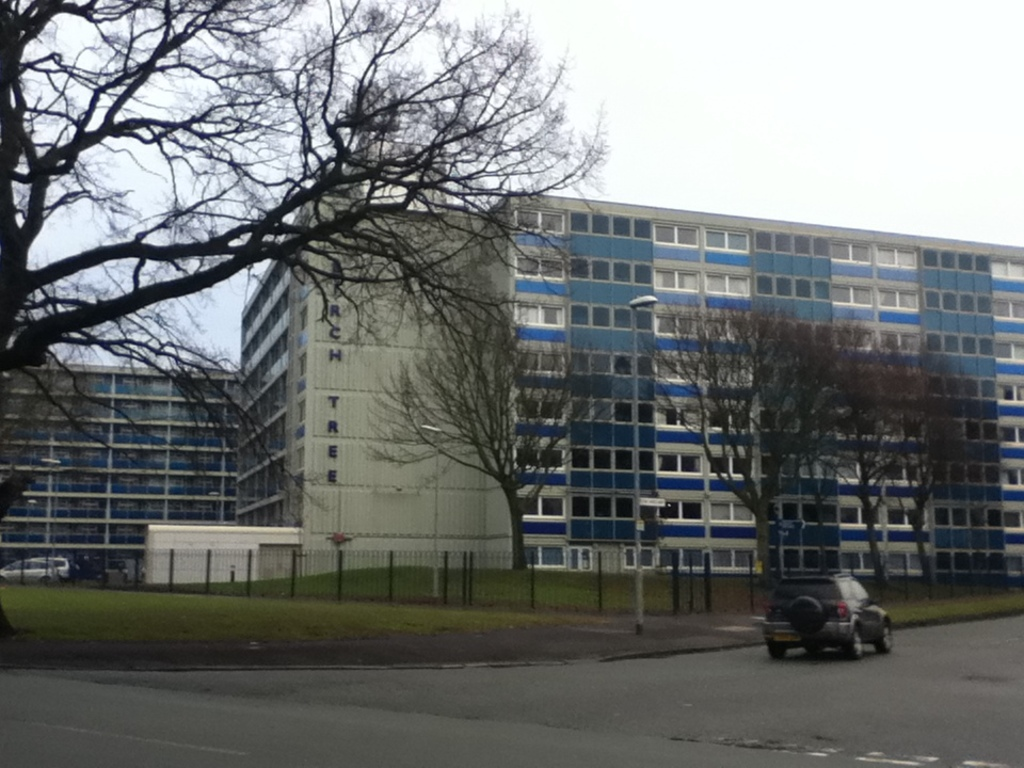Car: (764, 574, 890, 659), (0, 557, 75, 582)
